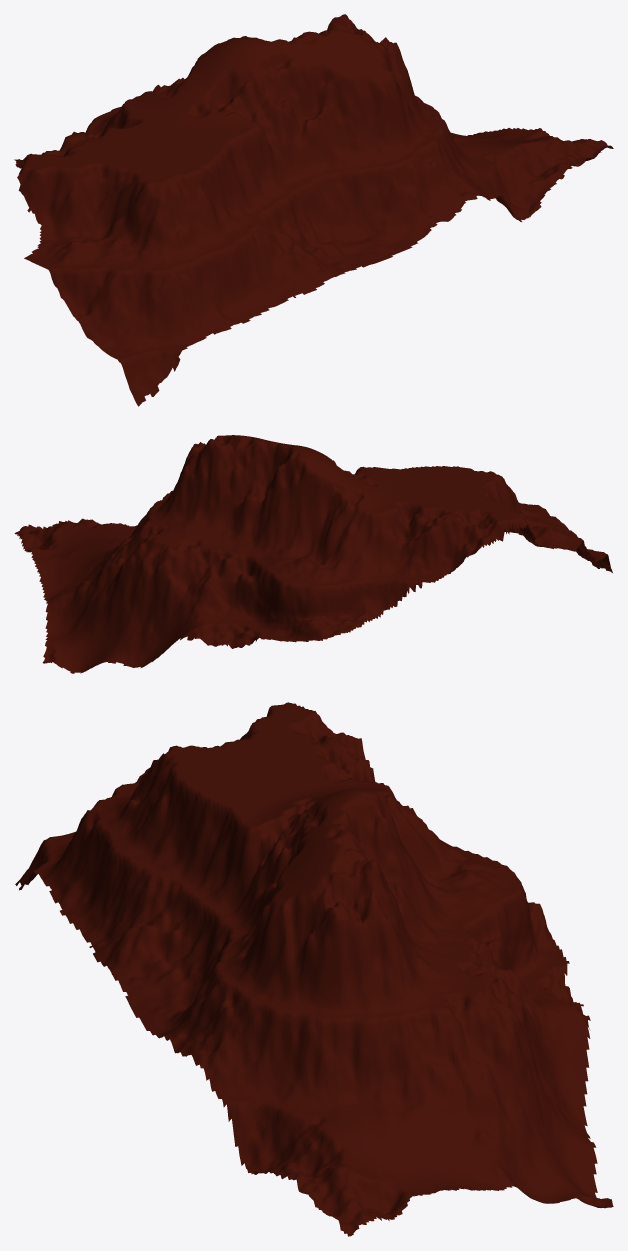
File: Rock 1.fbx
3 renders of one model, top to bottom at view 1: azimuth 30°, elevation 25°; view 2: azimuth 150°, elevation 25°; view 3: azimuth 270°, elevation 25°, orthographic. The views are drawn at different scales.
Visible parts, largest first — view 1: Landscape.014; view 2: Landscape.014; view 3: Landscape.014.
Boxes of the visible parts, x1,y1,x2,y2 form: Landscape.014: [14, 14, 613, 406]; Landscape.014: [14, 435, 612, 673]; Landscape.014: [15, 702, 613, 1236].
Bounding box in the file's own units: 106 × 39.18 × 71.41.
